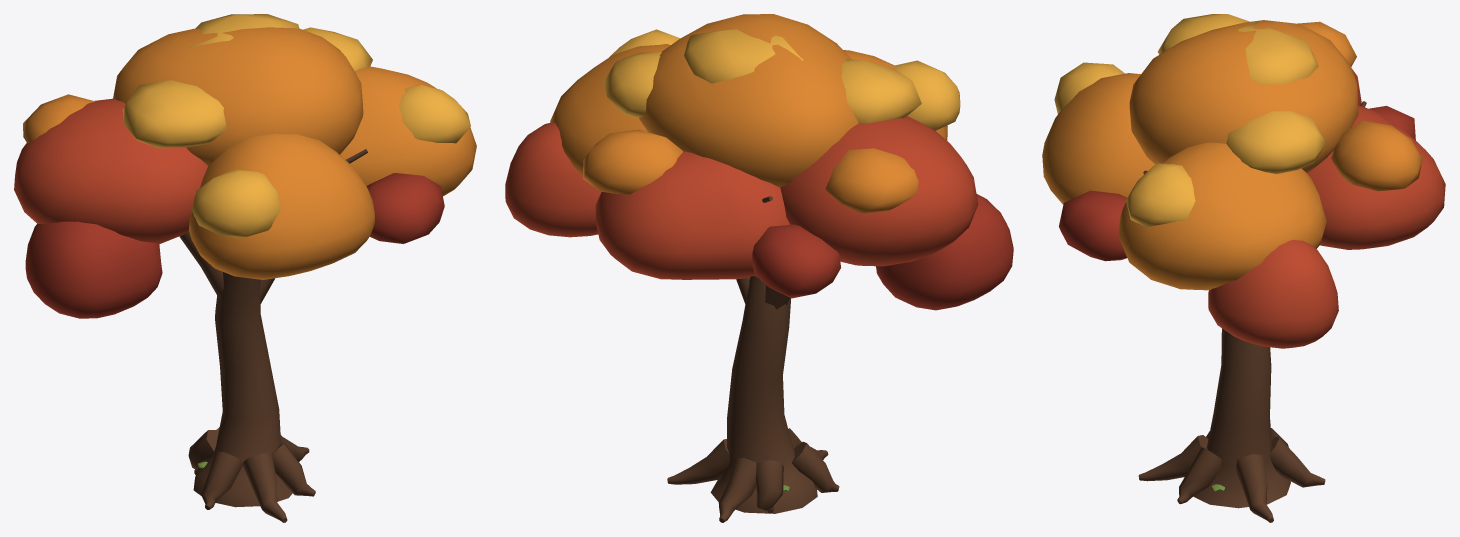
File: maple_tree.glb
3 views of the same model, side by side, from view 1: azimuth 30°, elevation 25°; view 2: azimuth 150°, elevation 25°; view 3: azimuth 270°, elevation 25° (orthographic). The views are drawn at different scales.
Parts seen in each view (by area): view 1: foliage, trunk; view 2: foliage, trunk; view 3: foliage, trunk.
Boxes of the visible parts, <box> form: foliage: <box>14,14,476,318</box>; trunk: <box>179,149,367,522</box>; foliage: <box>505,14,1013,310</box>; trunk: <box>667,196,839,522</box>; foliage: <box>1042,14,1445,348</box>; trunk: <box>1138,101,1366,522</box>.
Size of what is drawn, in the model's own units: 7.77 by 7.47 by 6.07.
